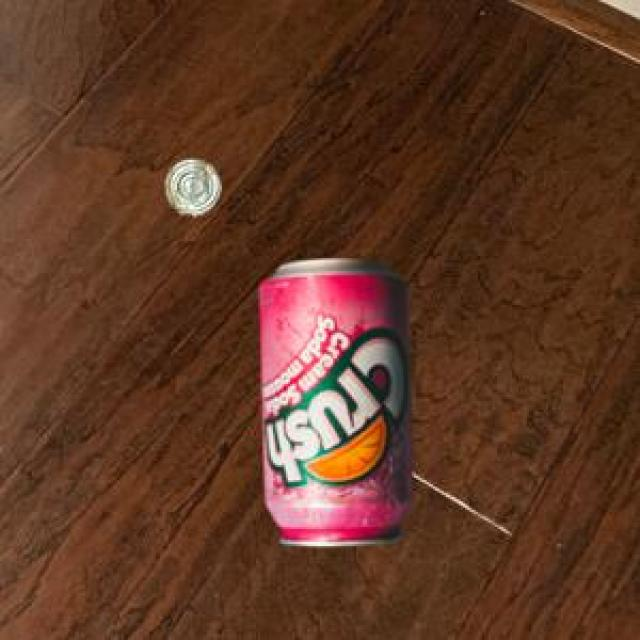logam: (255, 259, 409, 543), (161, 157, 217, 214)
